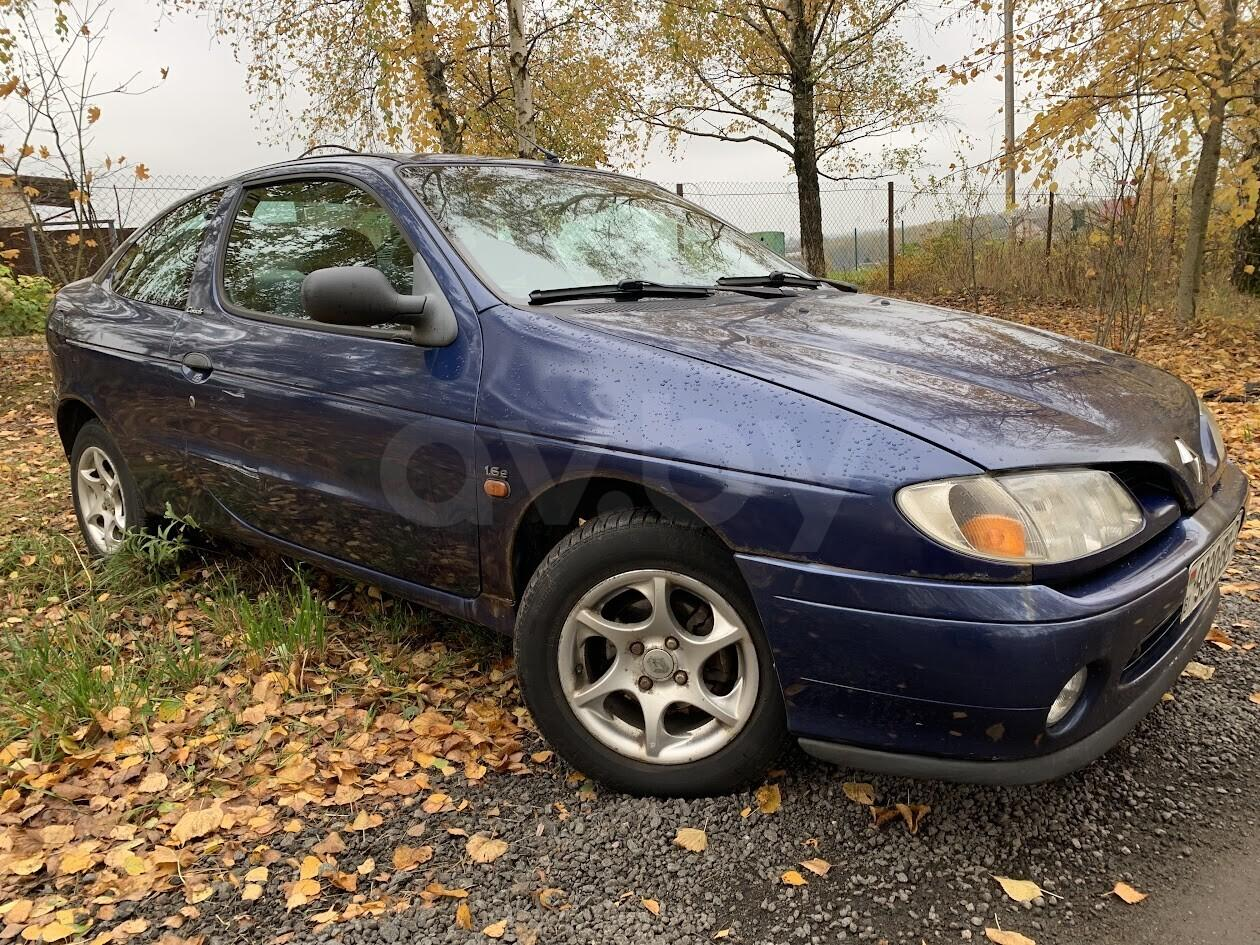Megane_1995-1999: (41, 142, 1260, 808)
